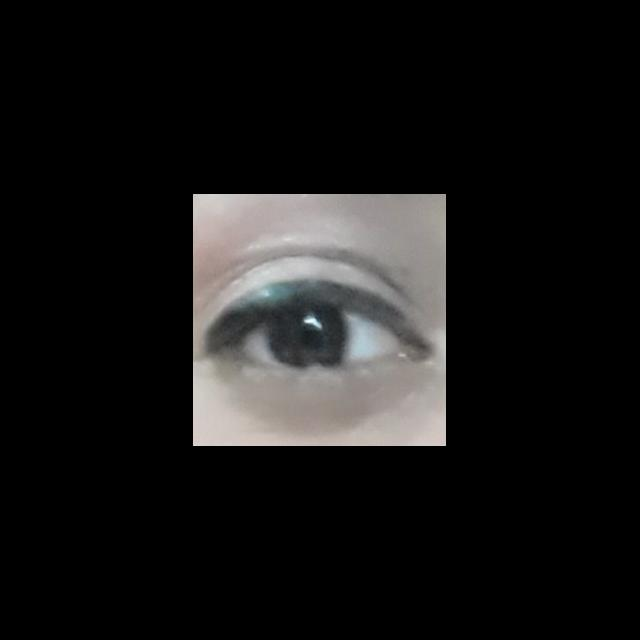eye: (233, 298, 409, 370)
iris: (265, 302, 350, 369)
